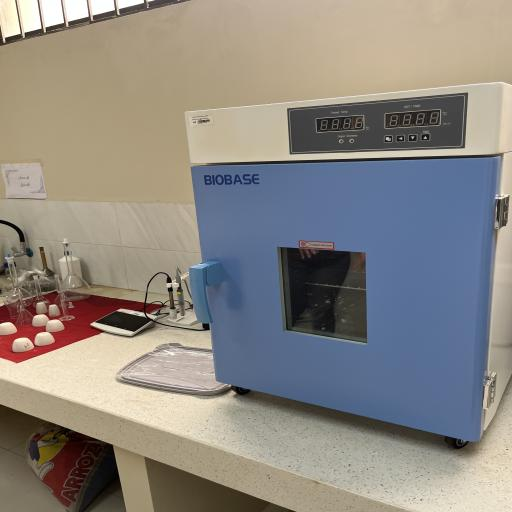Horno_Secado_Biobase: (161, 67, 512, 460)
